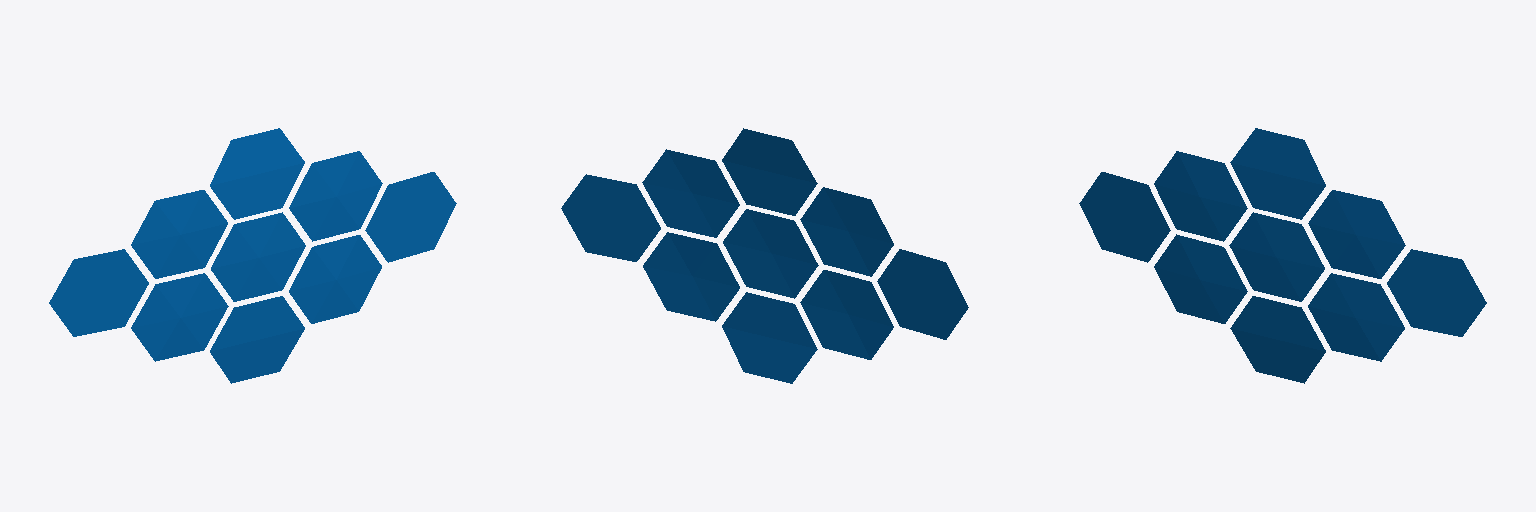
The model's file is Shield.obj.
3 views of the same model, side by side, from view 1: azimuth 30°, elevation 25°; view 2: azimuth 150°, elevation 25°; view 3: azimuth 330°, elevation 25° (orthographic).
Visible parts, largest first — view 1: polygon0; view 2: polygon0; view 3: polygon0.
Part boxes in pixels (x1,y1,x2,y2): polygon0: (49, 128, 456, 383); polygon0: (561, 128, 968, 383); polygon0: (1079, 128, 1486, 383).
Bounding box in the file's own units: 7.09 × 4.05 × 0.1918.